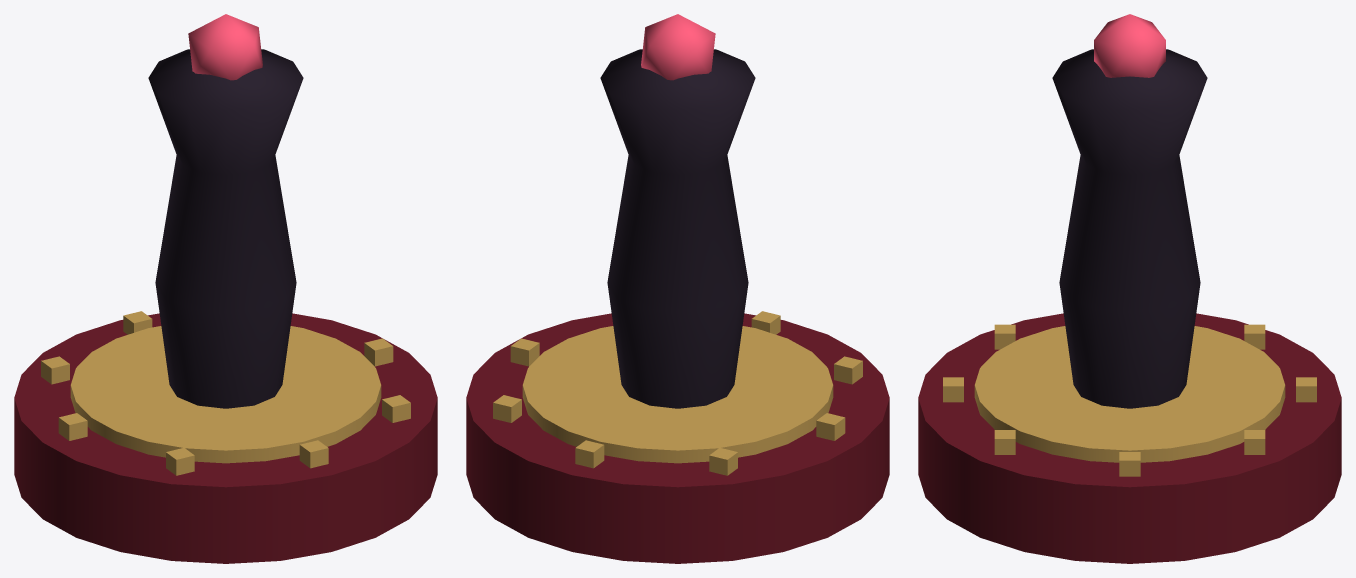
File: master_seal.fbx
3 renders of one model, left to right at view 1: azimuth 30°, elevation 25°; view 2: azimuth 150°, elevation 25°; view 3: azimuth 270°, elevation 25°, orthographic.
Visible parts, largest first — view 1: master_seal; view 2: master_seal; view 3: master_seal.
Boxes of the visible parts, <box> form: master_seal: <box>14,14,437,563</box>; master_seal: <box>466,14,889,563</box>; master_seal: <box>918,14,1341,563</box>.
Bounding box in the file's own units: 0.6 × 0.72 × 0.6.
